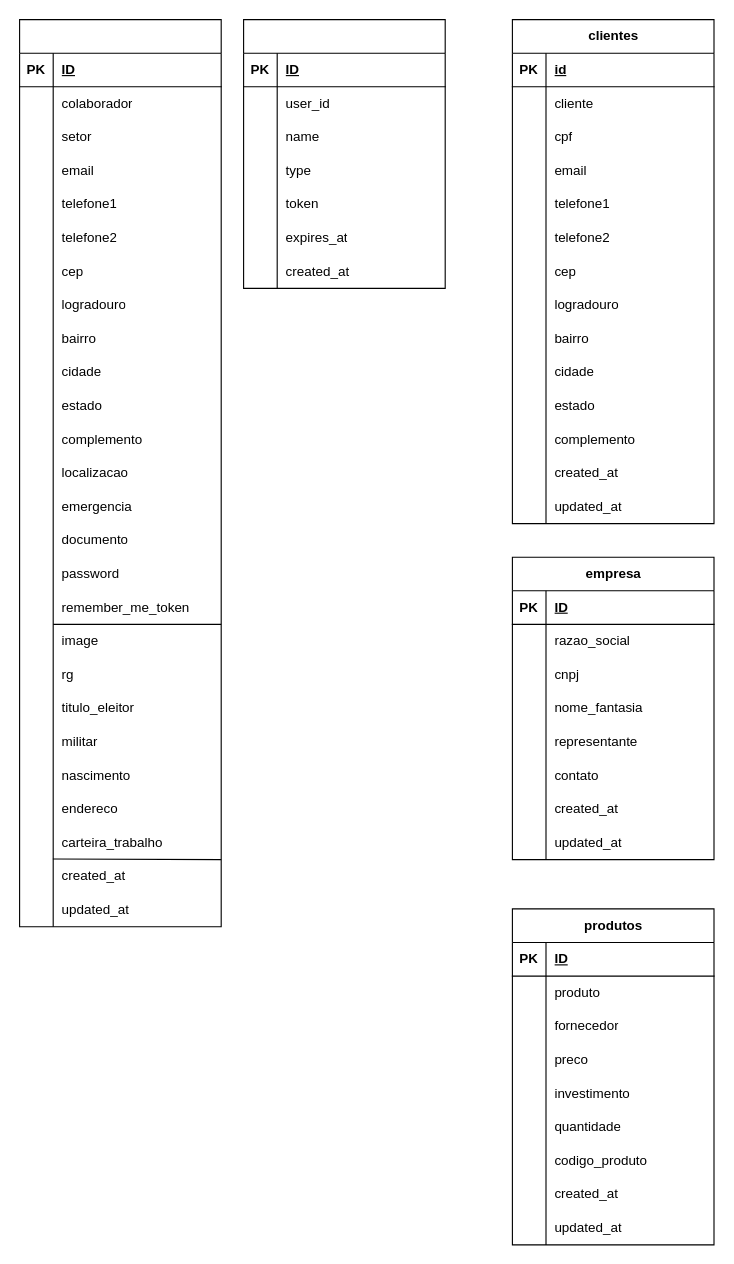
The diagram is 734 pixels wide and 1264 high, and some of its shapes have lost their labels. The box of each missing label's shape, as (x1, y1, x2, y2) in pixels:
api_tokens: (242, 18, 445, 288)
usuarios: (18, 18, 221, 927)
